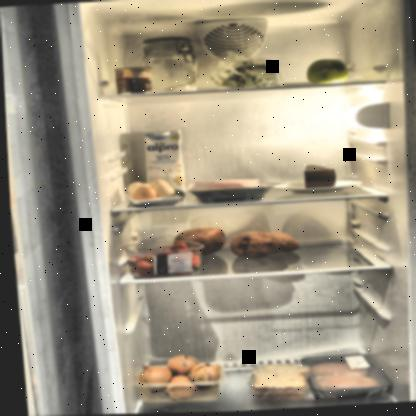apple: (301, 56, 354, 91)
cheese: (300, 164, 335, 191)
chicken: (293, 351, 392, 408)
corn: (113, 66, 156, 97)
eggs: (122, 178, 175, 209)
green_beans: (207, 55, 283, 95)
ground_beef: (184, 177, 272, 206)
milk: (140, 127, 186, 201)
onion: (131, 353, 223, 402)
strawberries: (118, 239, 200, 280)
sweet_potato: (169, 220, 303, 265)
